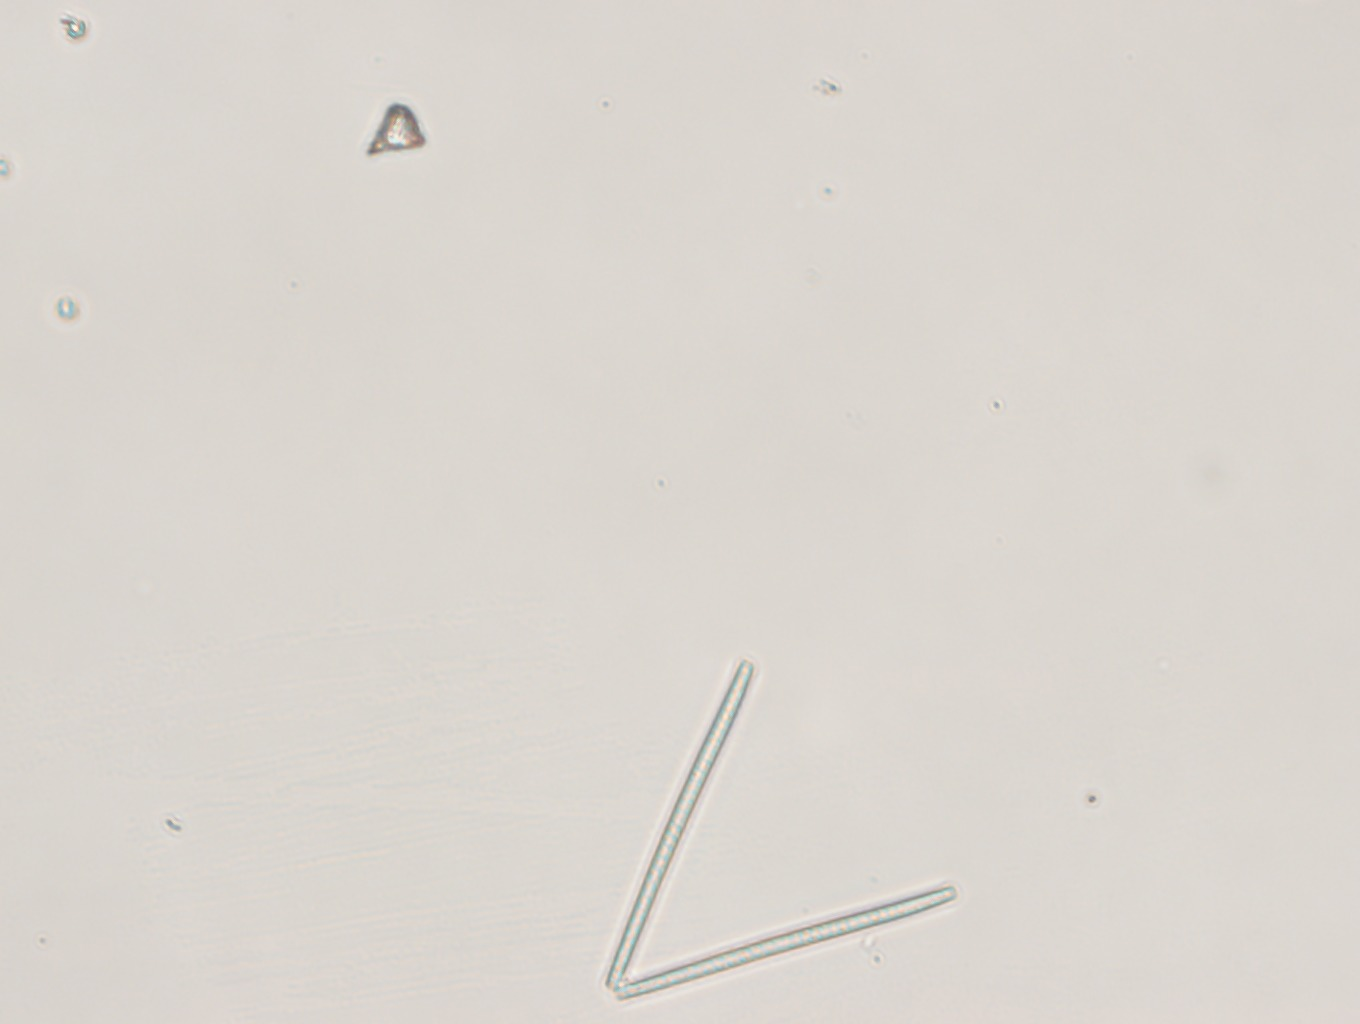thalassionema frauenfeldii: (595, 660, 963, 1000)
